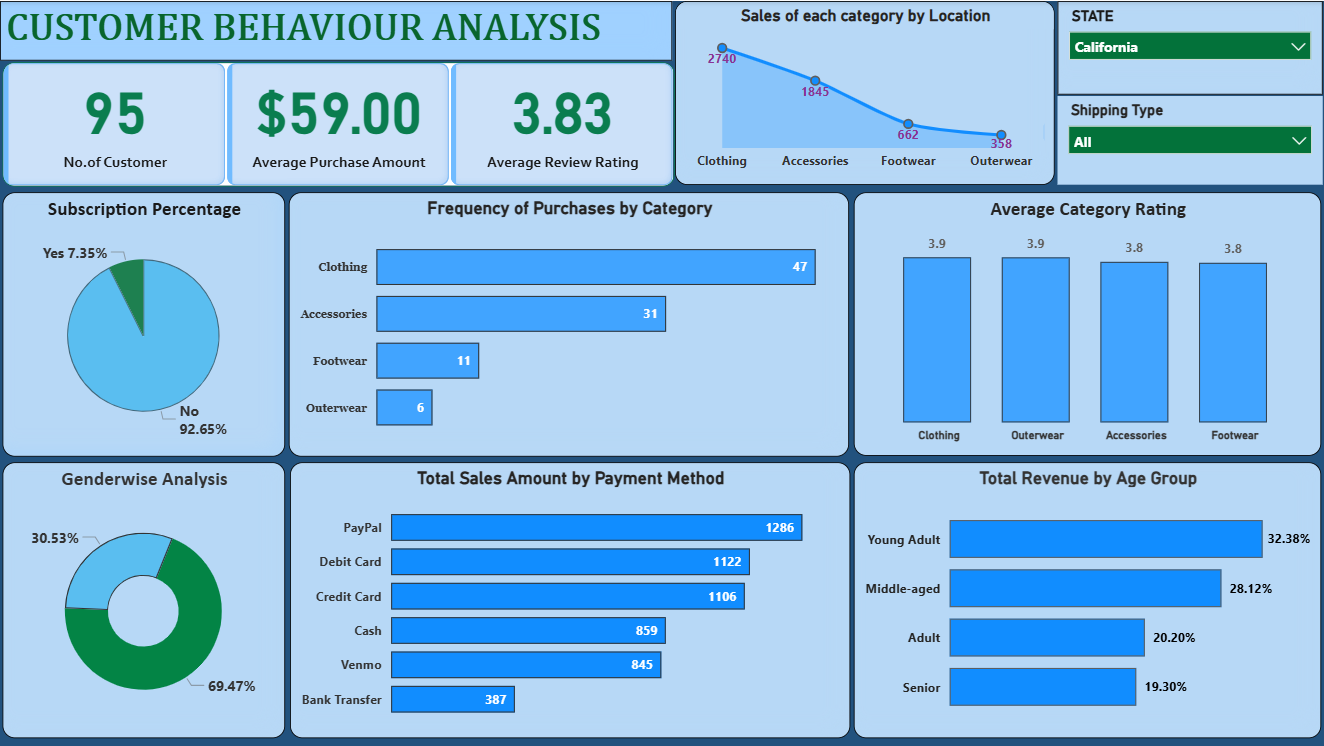

What the dashboard file says about the page in this screenshot:
{"tool":"powerbi","page":{"name":"Page 1","canvas":[1280,720],"ordinal":0},"visuals":[{"type":"cardVisual","fields":{"Data":["public customer.No.of Customer","public customer.Average Purchase Amount","public customer.Average Review Rating"]},"box":[2,59,649.1,120],"z":0},{"type":"shape","box":[0,0,649.1,57.6],"z":1000},{"type":"textbox","box":[0,0,649.1,57.6],"z":2000},{"type":"pieChart","title":"Subscription Percentage","fields":{"Y":["Sum(public customer.customer_id)"],"Category":["public customer.subscription_status"]},"box":[2,184,272.7,255],"z":3000},{"type":"columnChart","title":"Average Category Rating","fields":{"Category":["public customer.category"],"Y":["public customer.Average Review Rating"]},"box":[824,184.6,451.2,254.6],"z":4000},{"type":"donutChart","title":"Genderwise Analysis","fields":{"Category":["public customer.gender"],"Y":["public customer.No.of Customer"]},"box":[2.4,445,272.7,266],"z":5000},{"type":"barChart","title":"Frequency of Purchases by Category","fields":{"Category":["public customer.category"],"Y":["CountNonNull(public customer.purchase_frequency_days)"]},"box":[279,184,541,255],"z":6000},{"type":"barChart","title":"Total Revenue by Age Group","fields":{"Category":["public customer.age_group"],"Y":["Sum(public customer.purchase_amount)"]},"box":[824,445,451.2,266],"z":7000},{"type":"lineChart","title":"Sales of each category by Location","fields":{"Category":["public customer.category"],"Series":["public customer.location"],"Y":["Sum(public customer.purchase_amount)"]},"box":[651.5,0,366.8,177.3],"z":8000},{"type":"slicer","fields":{"Values":["public customer.location"]},"box":[1020.6,0,255.8,90.5],"z":9000},{"type":"slicer","fields":{"Values":["public customer.shipping_type"]},"box":[1020.6,91.7,255.8,85.7],"z":10000},{"type":"barChart","title":"Total Sales Amount by Payment Method","fields":{"Category":["public customer.payment_method"],"Y":["Sum(public customer.purchase_amount)"]},"box":[279.9,445,540.5,266],"z":11000}]}

Visuals, with their boxes in screenshot pixels (x1, y1, x2, y2), scaled from the page's 1280x720 canvas onto the 1324x746 screenshot:
cardVisual - public customer.No.of Customer x public customer.Average Purchase Amount: pyautogui.locateOnScreen(2, 61, 673, 185)
shape: pyautogui.locateOnScreen(0, 0, 671, 60)
textbox: pyautogui.locateOnScreen(0, 0, 671, 60)
"Subscription Percentage" pieChart: pyautogui.locateOnScreen(2, 191, 284, 455)
"Average Category Rating" columnChart: pyautogui.locateOnScreen(852, 191, 1319, 455)
"Genderwise Analysis" donutChart: pyautogui.locateOnScreen(2, 461, 285, 737)
"Frequency of Purchases by Category" barChart: pyautogui.locateOnScreen(289, 191, 848, 455)
"Total Revenue by Age Group" barChart: pyautogui.locateOnScreen(852, 461, 1319, 737)
"Sales of each category by Location" lineChart: pyautogui.locateOnScreen(674, 0, 1053, 184)
slicer - public customer.location: pyautogui.locateOnScreen(1056, 0, 1320, 94)
slicer - public customer.shipping_type: pyautogui.locateOnScreen(1056, 95, 1320, 184)
"Total Sales Amount by Payment Method" barChart: pyautogui.locateOnScreen(290, 461, 849, 737)
